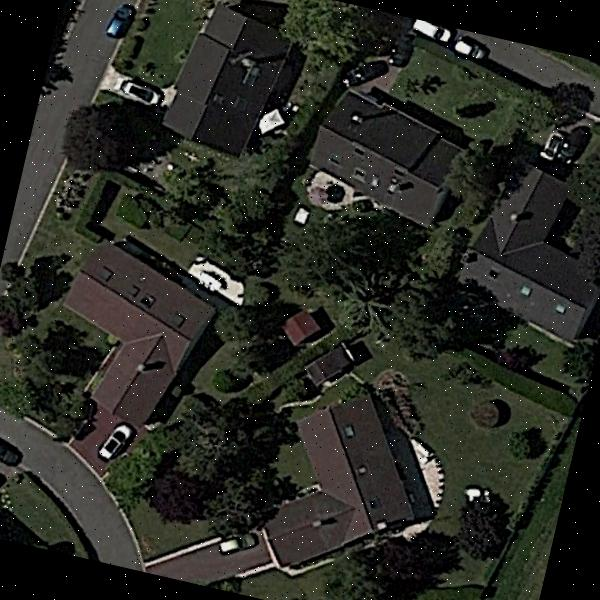Buildings: (268, 403, 442, 578), (59, 248, 208, 422), (310, 94, 464, 230), (478, 172, 600, 326), (162, 9, 287, 152), (276, 304, 325, 355), (310, 346, 350, 396)
